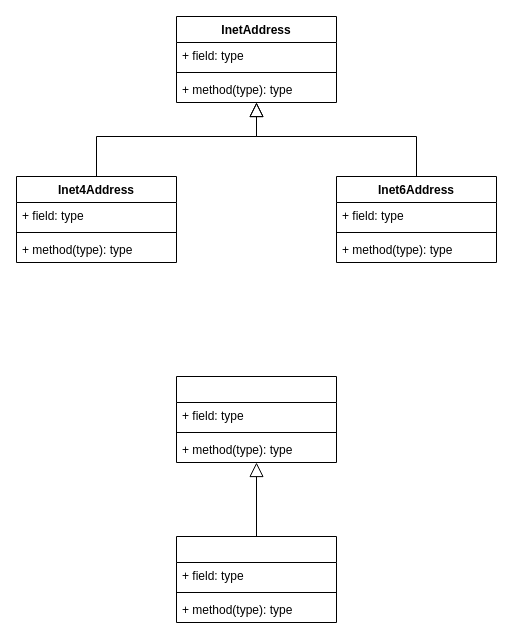
Some shapes in this 513 by 639 pixel diagram are drawn without their labels. Each missing label, with the box of its shape:
InetScoketAddress: (176, 536, 336, 622)
SocketAddress: (176, 376, 336, 462)
